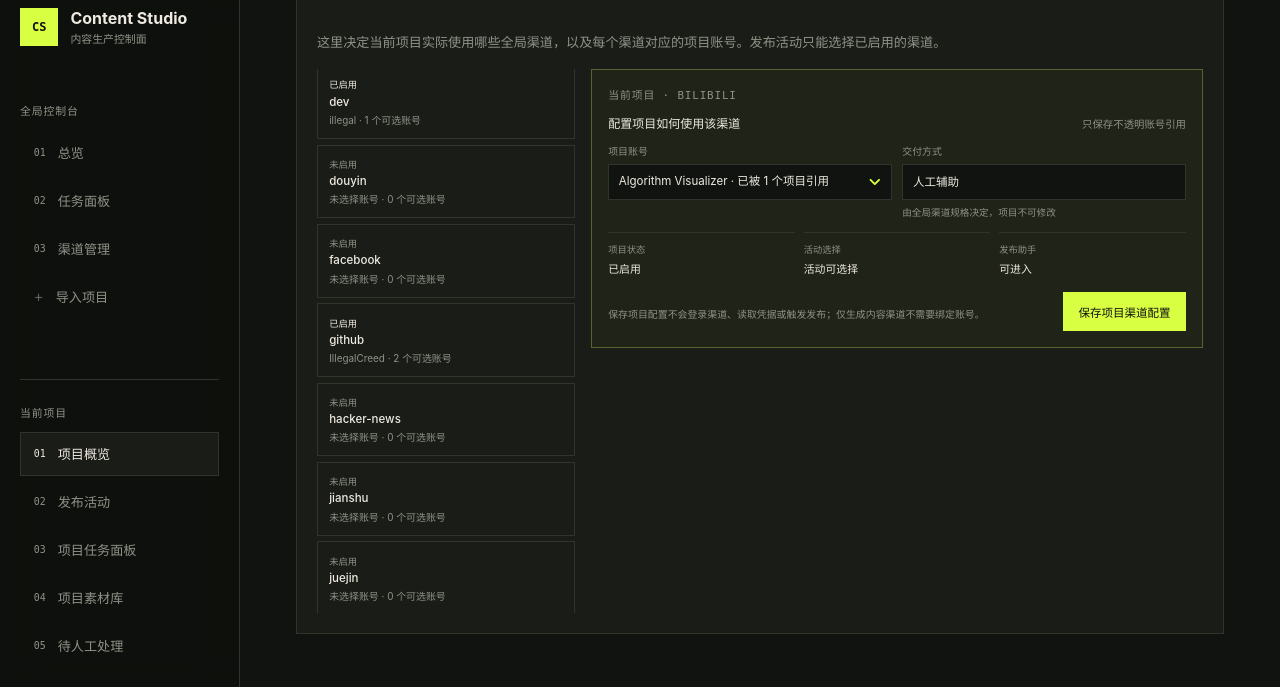
Test: content studio workbench › 将新鲜的 marketing-ops opaque accountRef 作为项目绑定候选展示
(page scrolled)
Click the button "已启用 github IllegalCreed · 2 个可选账号" at {"x": 446, "y": 340}, box [317, 303, 575, 377]
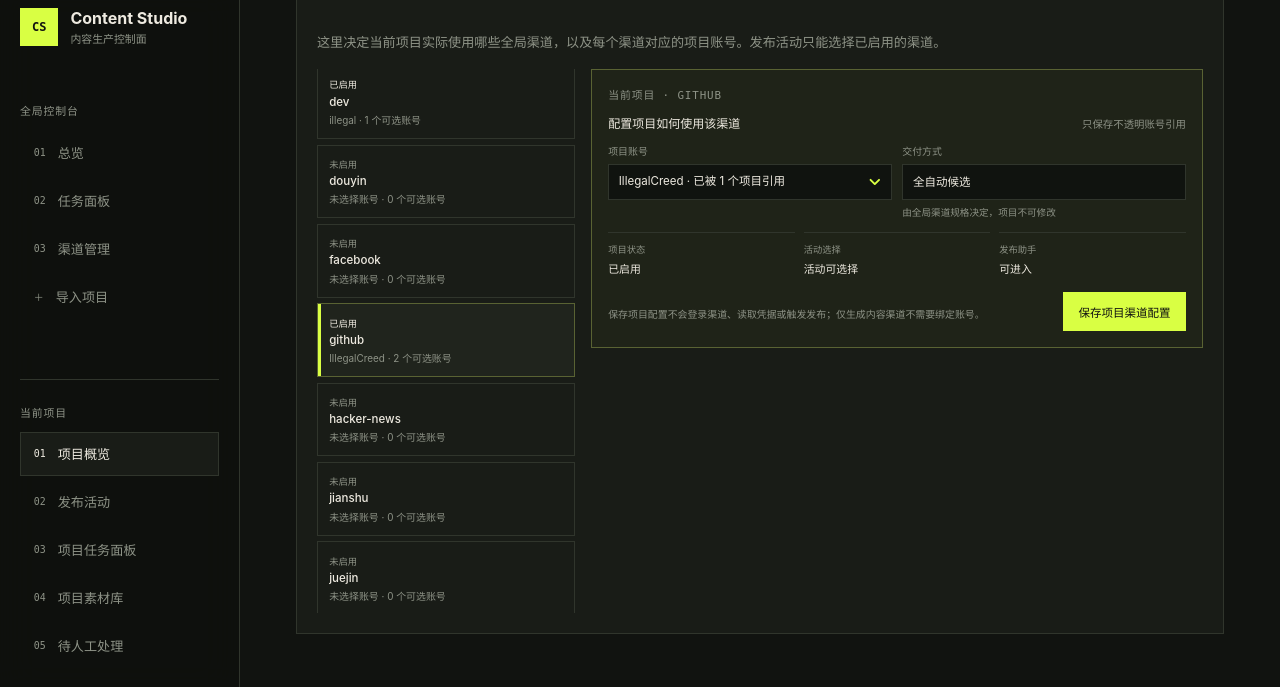
Click the button with test id "select-trigger" at {"x": 750, "y": 182}, box [608, 164, 892, 200]
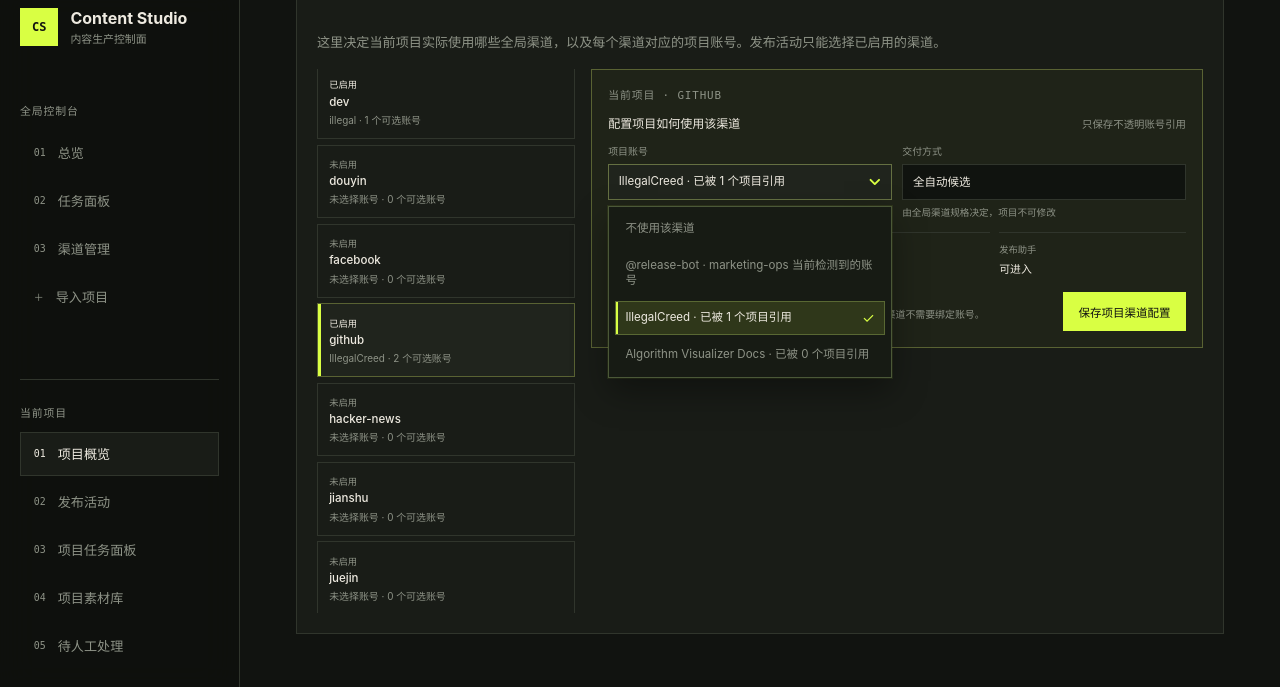
Expected: the option "@release-bot · marketing-ops 当前检测到的账号" is shown, [615, 249, 885, 298]
